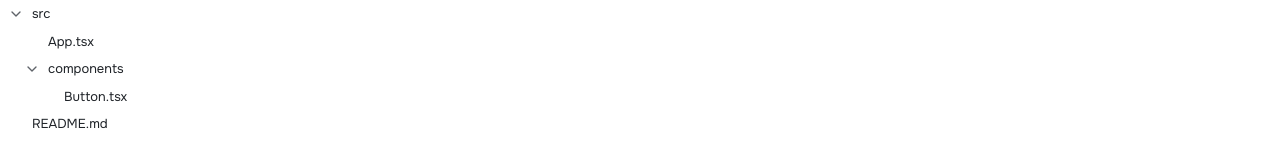
Scenario: Tree › an uncontrolled tree starts from defaultExpandedIds and manages itself
This screenshot has width=1280, height=160.
Expected: the text "Button.tsx" is shown, [64,86,127,106]
Click the text "components" at (86, 69), box [48,59,124,78]
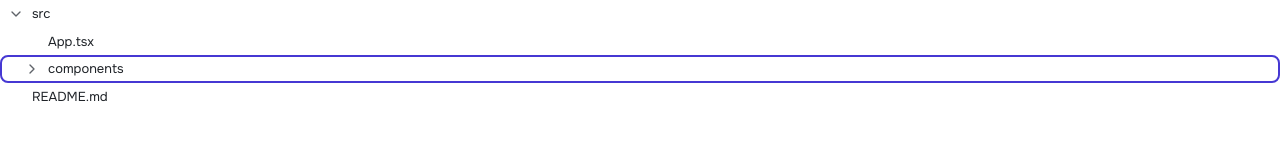
Now the text "Button.tsx" is gone
